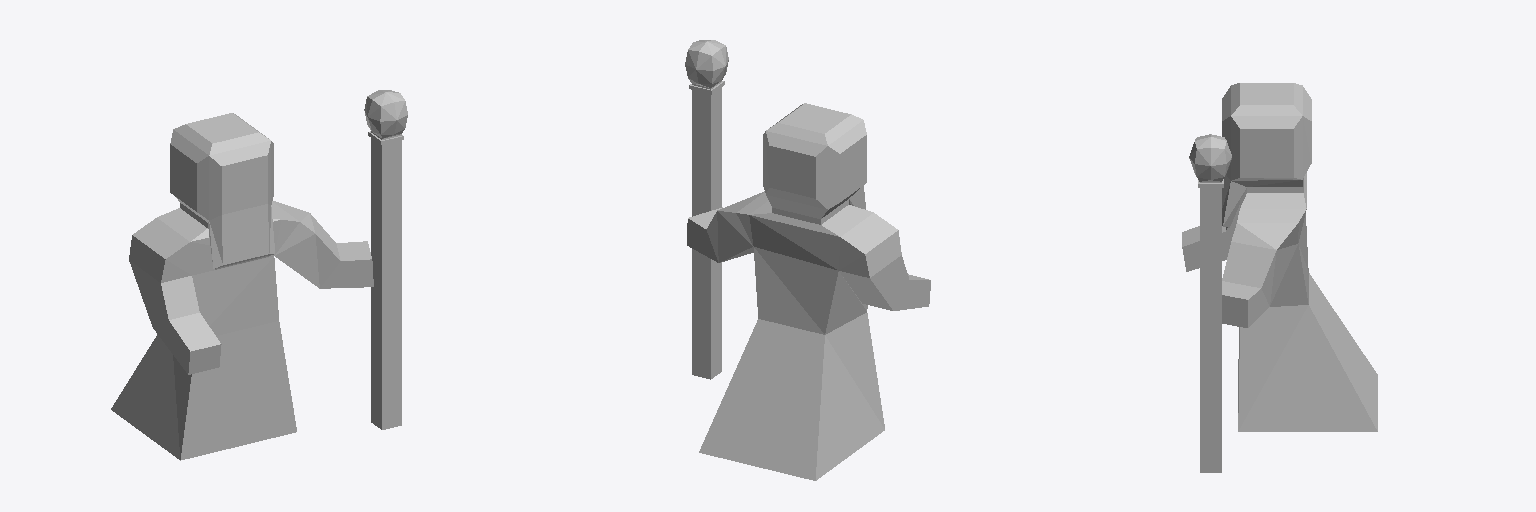
File: necromancerDummy.obj
3 views of the same model, side by side, from view 1: azimuth 30°, elevation 25°; view 2: azimuth 150°, elevation 25°; view 3: azimuth 270°, elevation 25° (orthographic).
Parts seen in each view (by area): view 1: necromancer; view 2: necromancer; view 3: necromancer.
Part boxes in pixels (x1,y1,x2,y2): necromancer: (111, 90, 407, 460); necromancer: (685, 40, 930, 480); necromancer: (1182, 83, 1377, 472).
Size of the model in its own units: 2.9 by 4.02 by 2.15.